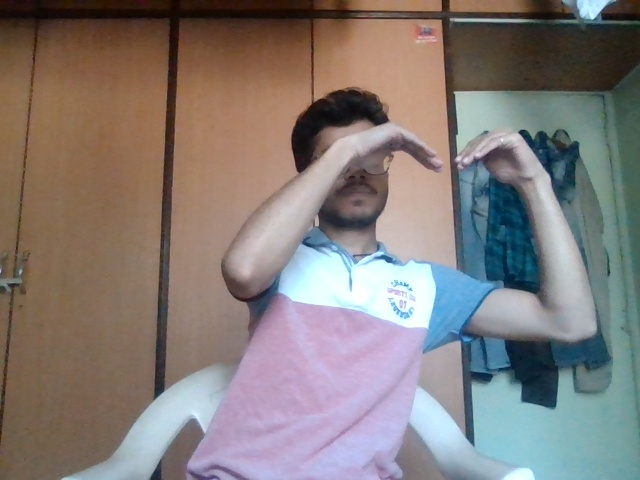we: (316, 116, 542, 238)
